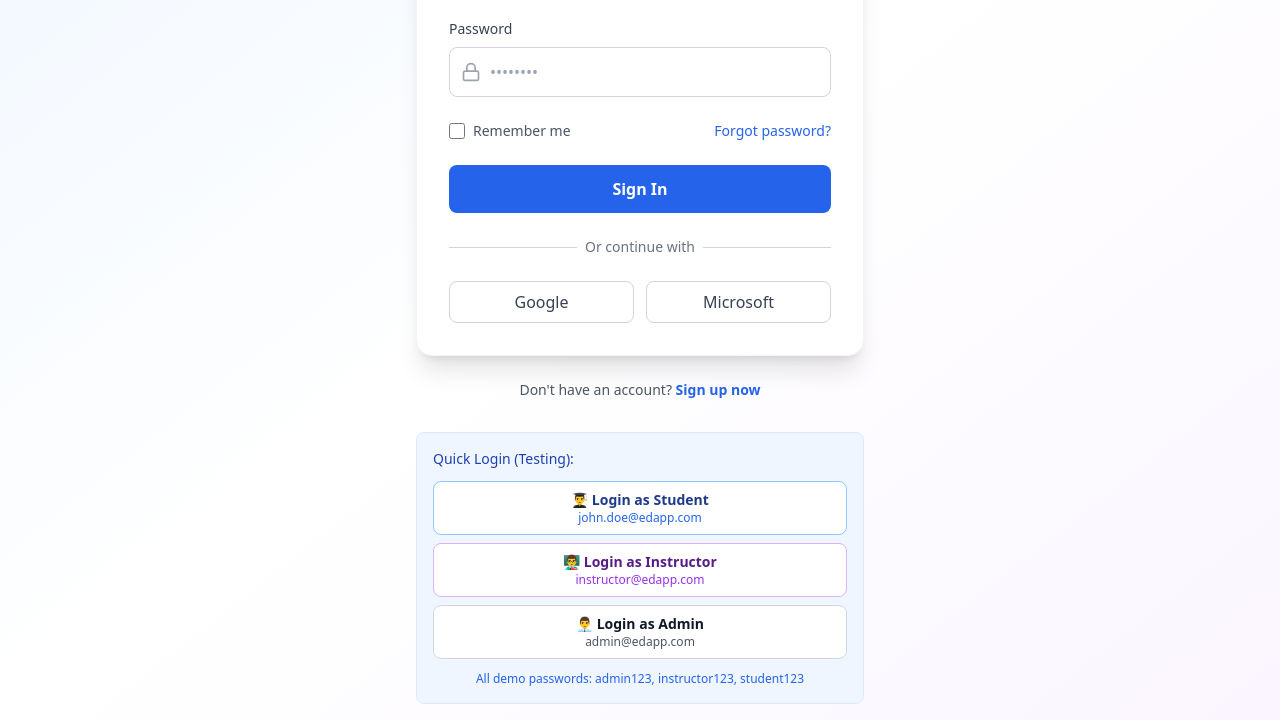
User Switcher › closes panel when backdrop is clicked
This screenshot has width=1280, height=720.
(page scrolled)
Click the button "👨‍🎓 Login as Student john.doe@edapp.com" at (640, 508), box [433,481,847,535]
(page scrolled)
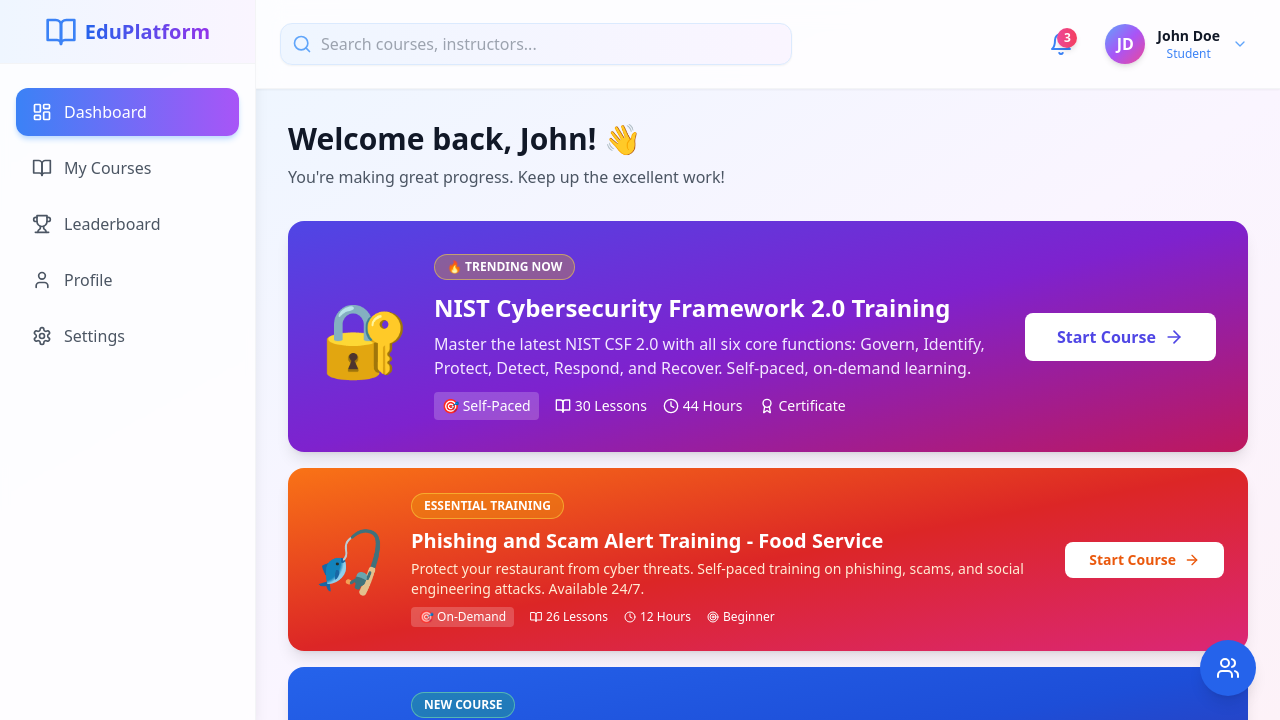
Click the button named "Switch User (Demo)" at (1228, 668), box [1200,640,1256,696]
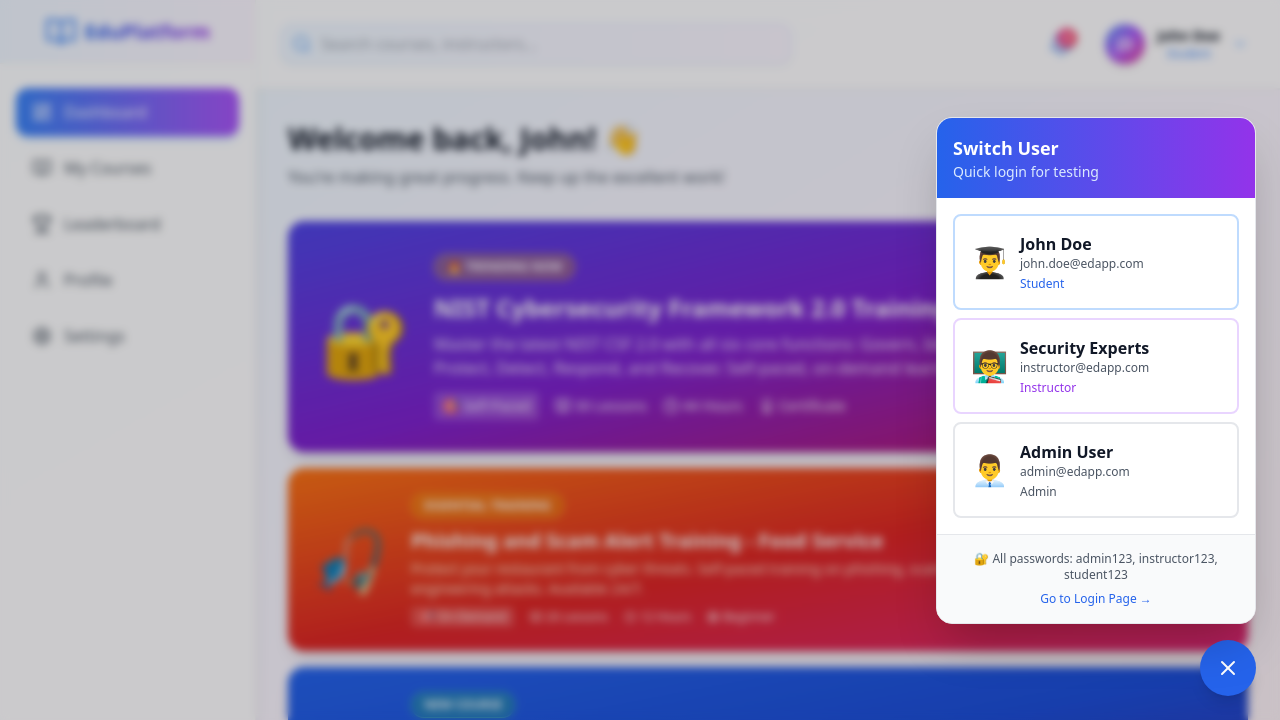
Now the heading "Switch User" is shown, box [953,136,1059,160]
Click the element with class "inset-0" at (640, 360), box [0,0,1279,719]
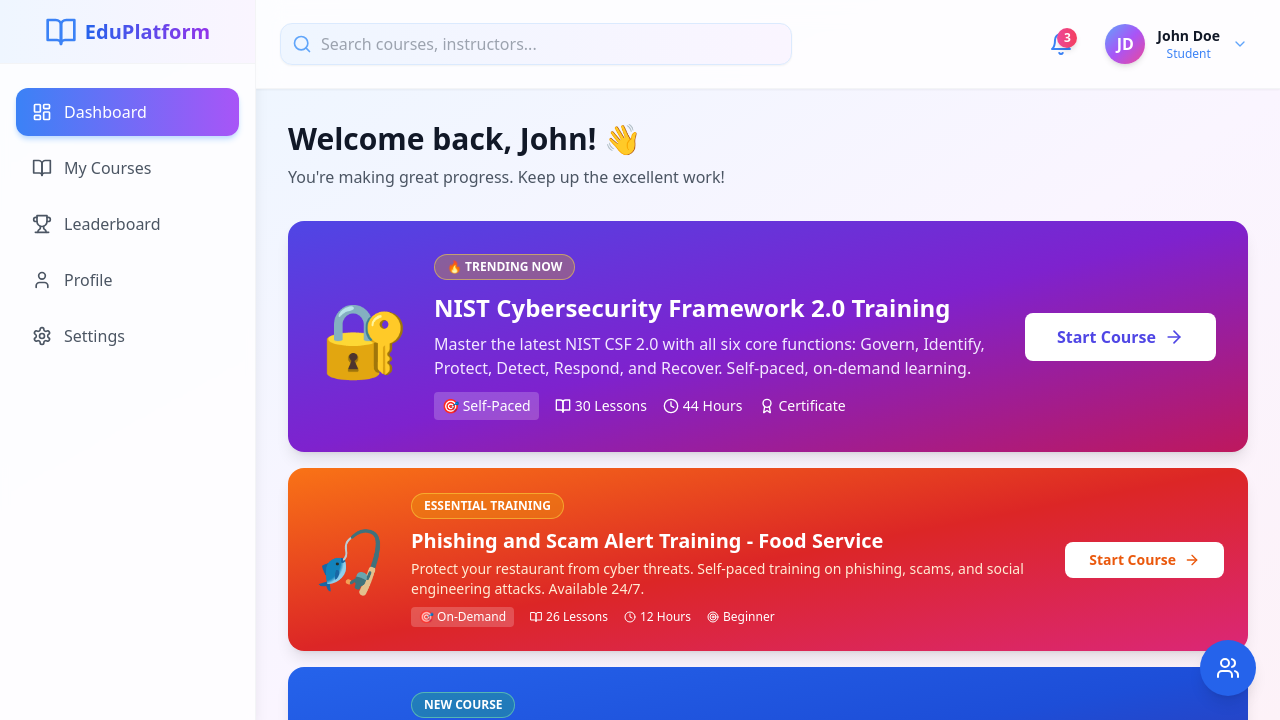
Now the heading "Switch User" is gone
